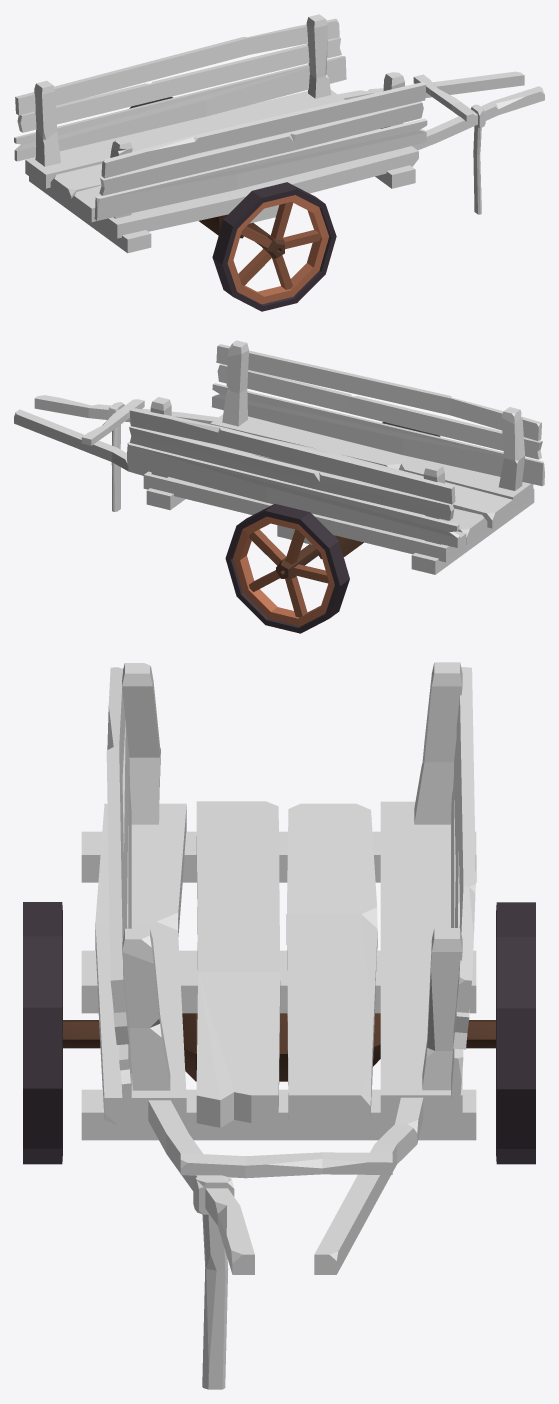
File: Cart2.fbx
The picture shows the model from 3 angles, top to bottom: view 1: azimuth 30°, elevation 25°; view 2: azimuth 150°, elevation 25°; view 3: azimuth 270°, elevation 25°; orthographic projection. The views are drawn at different scales.
Visible parts, largest first — view 1: Cart2; view 2: Cart2; view 3: Cart2.
Part boxes in pixels (x1,y1,x2,y2): Cart2: (14,14,544,311); Cart2: (14,340,544,633); Cart2: (23,662,535,1389).
Bounding box in the file's own units: 3.4 × 1.21 × 1.59.
